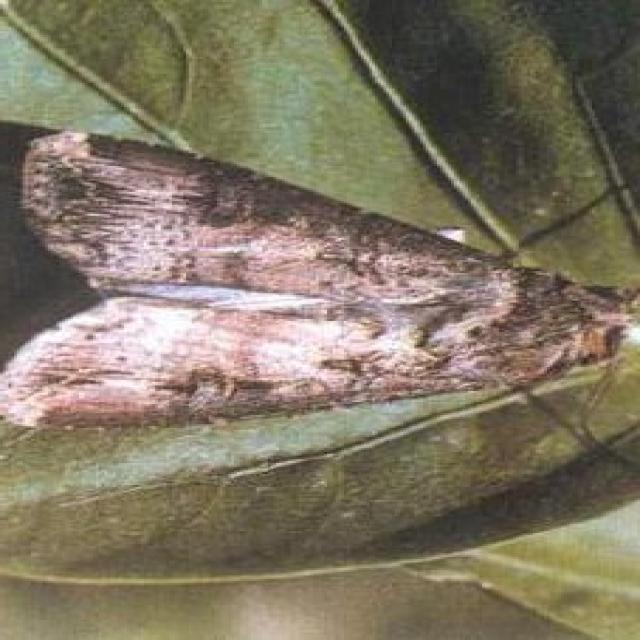black cutworm: (1, 112, 638, 451)
